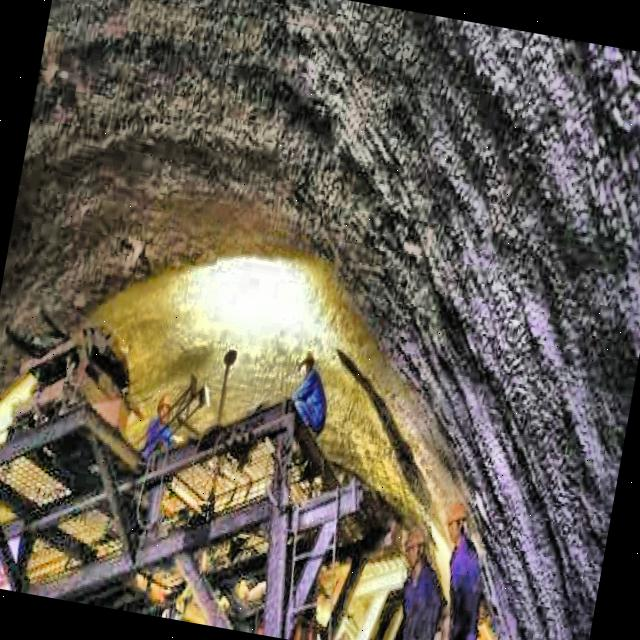helmet: (438, 498, 472, 545), (400, 522, 428, 567), (294, 347, 318, 380), (153, 391, 175, 423)
